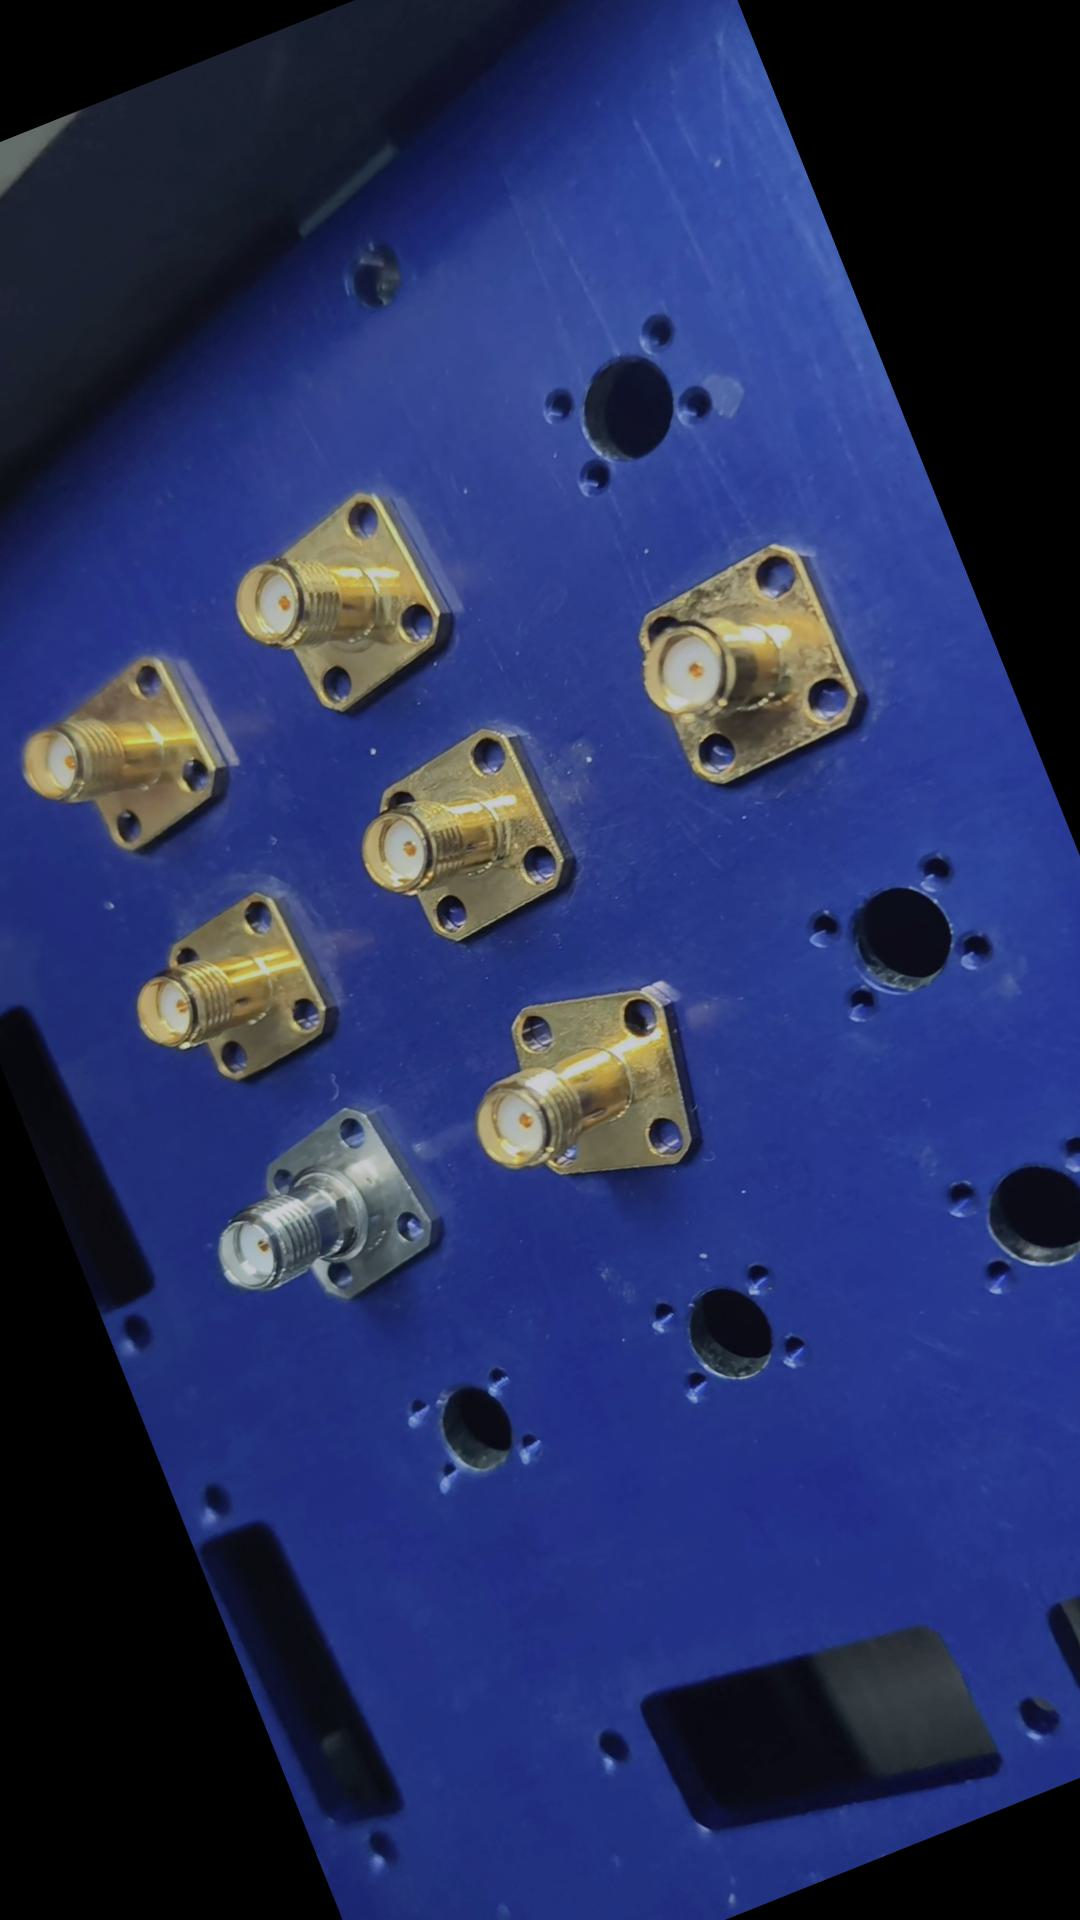SMA: (439, 952, 732, 1230), (609, 530, 884, 803), (179, 1085, 462, 1342), (328, 709, 599, 971), (218, 469, 481, 735), (0, 642, 251, 884), (105, 873, 353, 1113)
